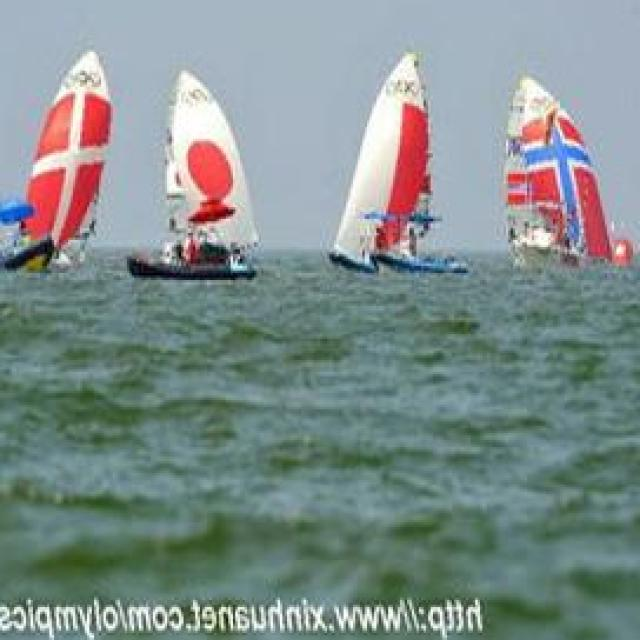sailboat: (127, 58, 265, 285), (328, 51, 462, 275), (492, 68, 620, 282), (0, 40, 113, 273)
